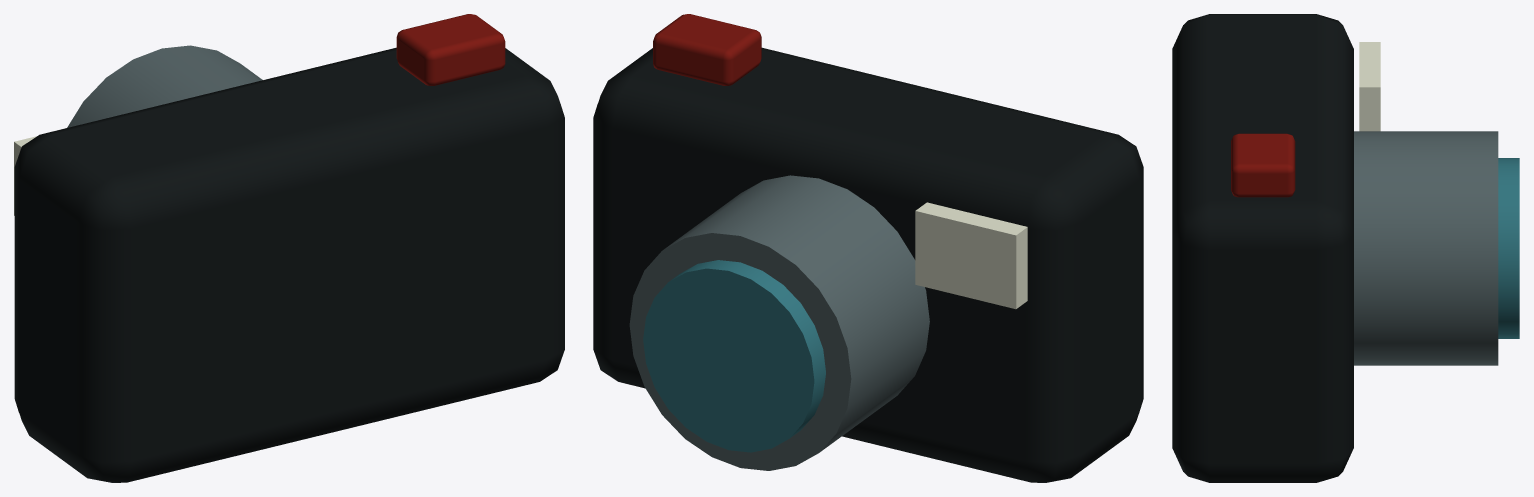
File: Camera.obj
3 renders of one model, left to right at view 1: azimuth 30°, elevation 25°; view 2: azimuth 150°, elevation 25°; view 3: azimuth 270°, elevation 25°, orthographic. The views are drawn at different scales.
Visible parts, largest first — view 1: Camera; view 2: Camera; view 3: Camera.
Boxes of the visible parts, x1,y1,x2,y2 form: Camera: [14, 14, 564, 482]; Camera: [593, 14, 1143, 482]; Camera: [1172, 14, 1519, 482].
Bounding box in the file's own units: 0.48 × 0.3225 × 0.325.
